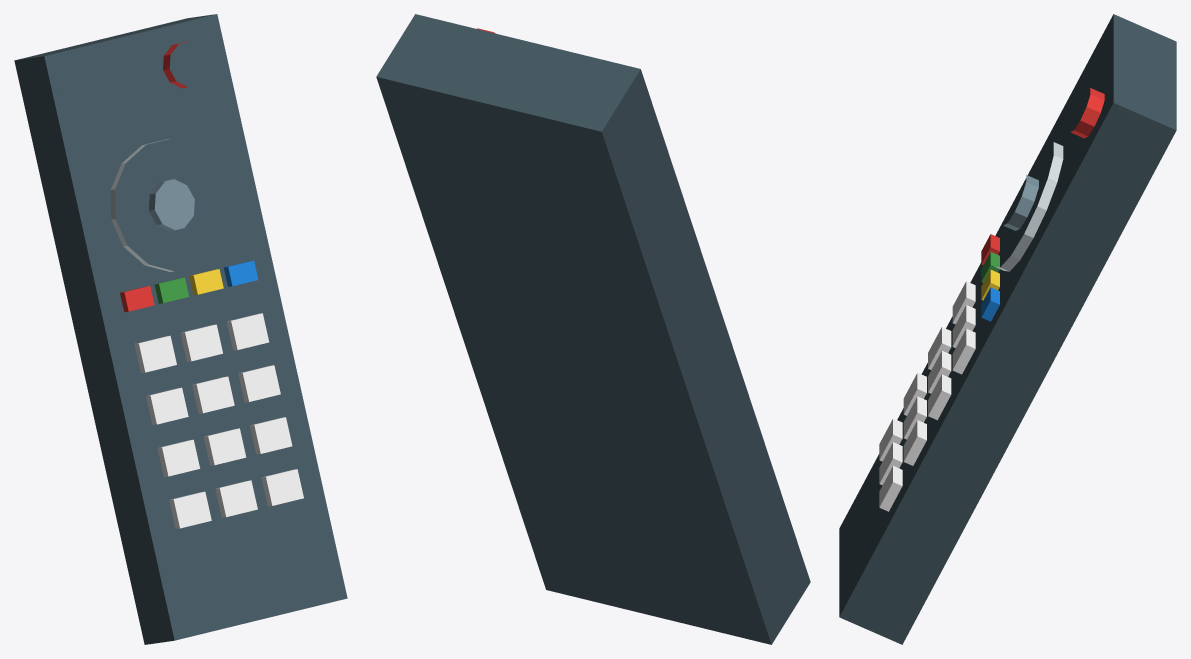
File: fjarrkontroll.glb
3 renders of one model, left to right at view 1: azimuth 30°, elevation 25°; view 2: azimuth 150°, elevation 25°; view 3: azimuth 270°, elevation 25°, orthographic. The views are drawn at different scales.
Parts seen in each view (by area): view 1: fjarrkontroll; view 2: fjarrkontroll; view 3: fjarrkontroll.
Boxes of the visible parts, x1,y1,x2,y2 form: fjarrkontroll: (14, 14, 347, 644); fjarrkontroll: (376, 14, 810, 644); fjarrkontroll: (839, 14, 1176, 644).
Size of the model in its own units: 0.12 by 0.3416 by 0.1926.
